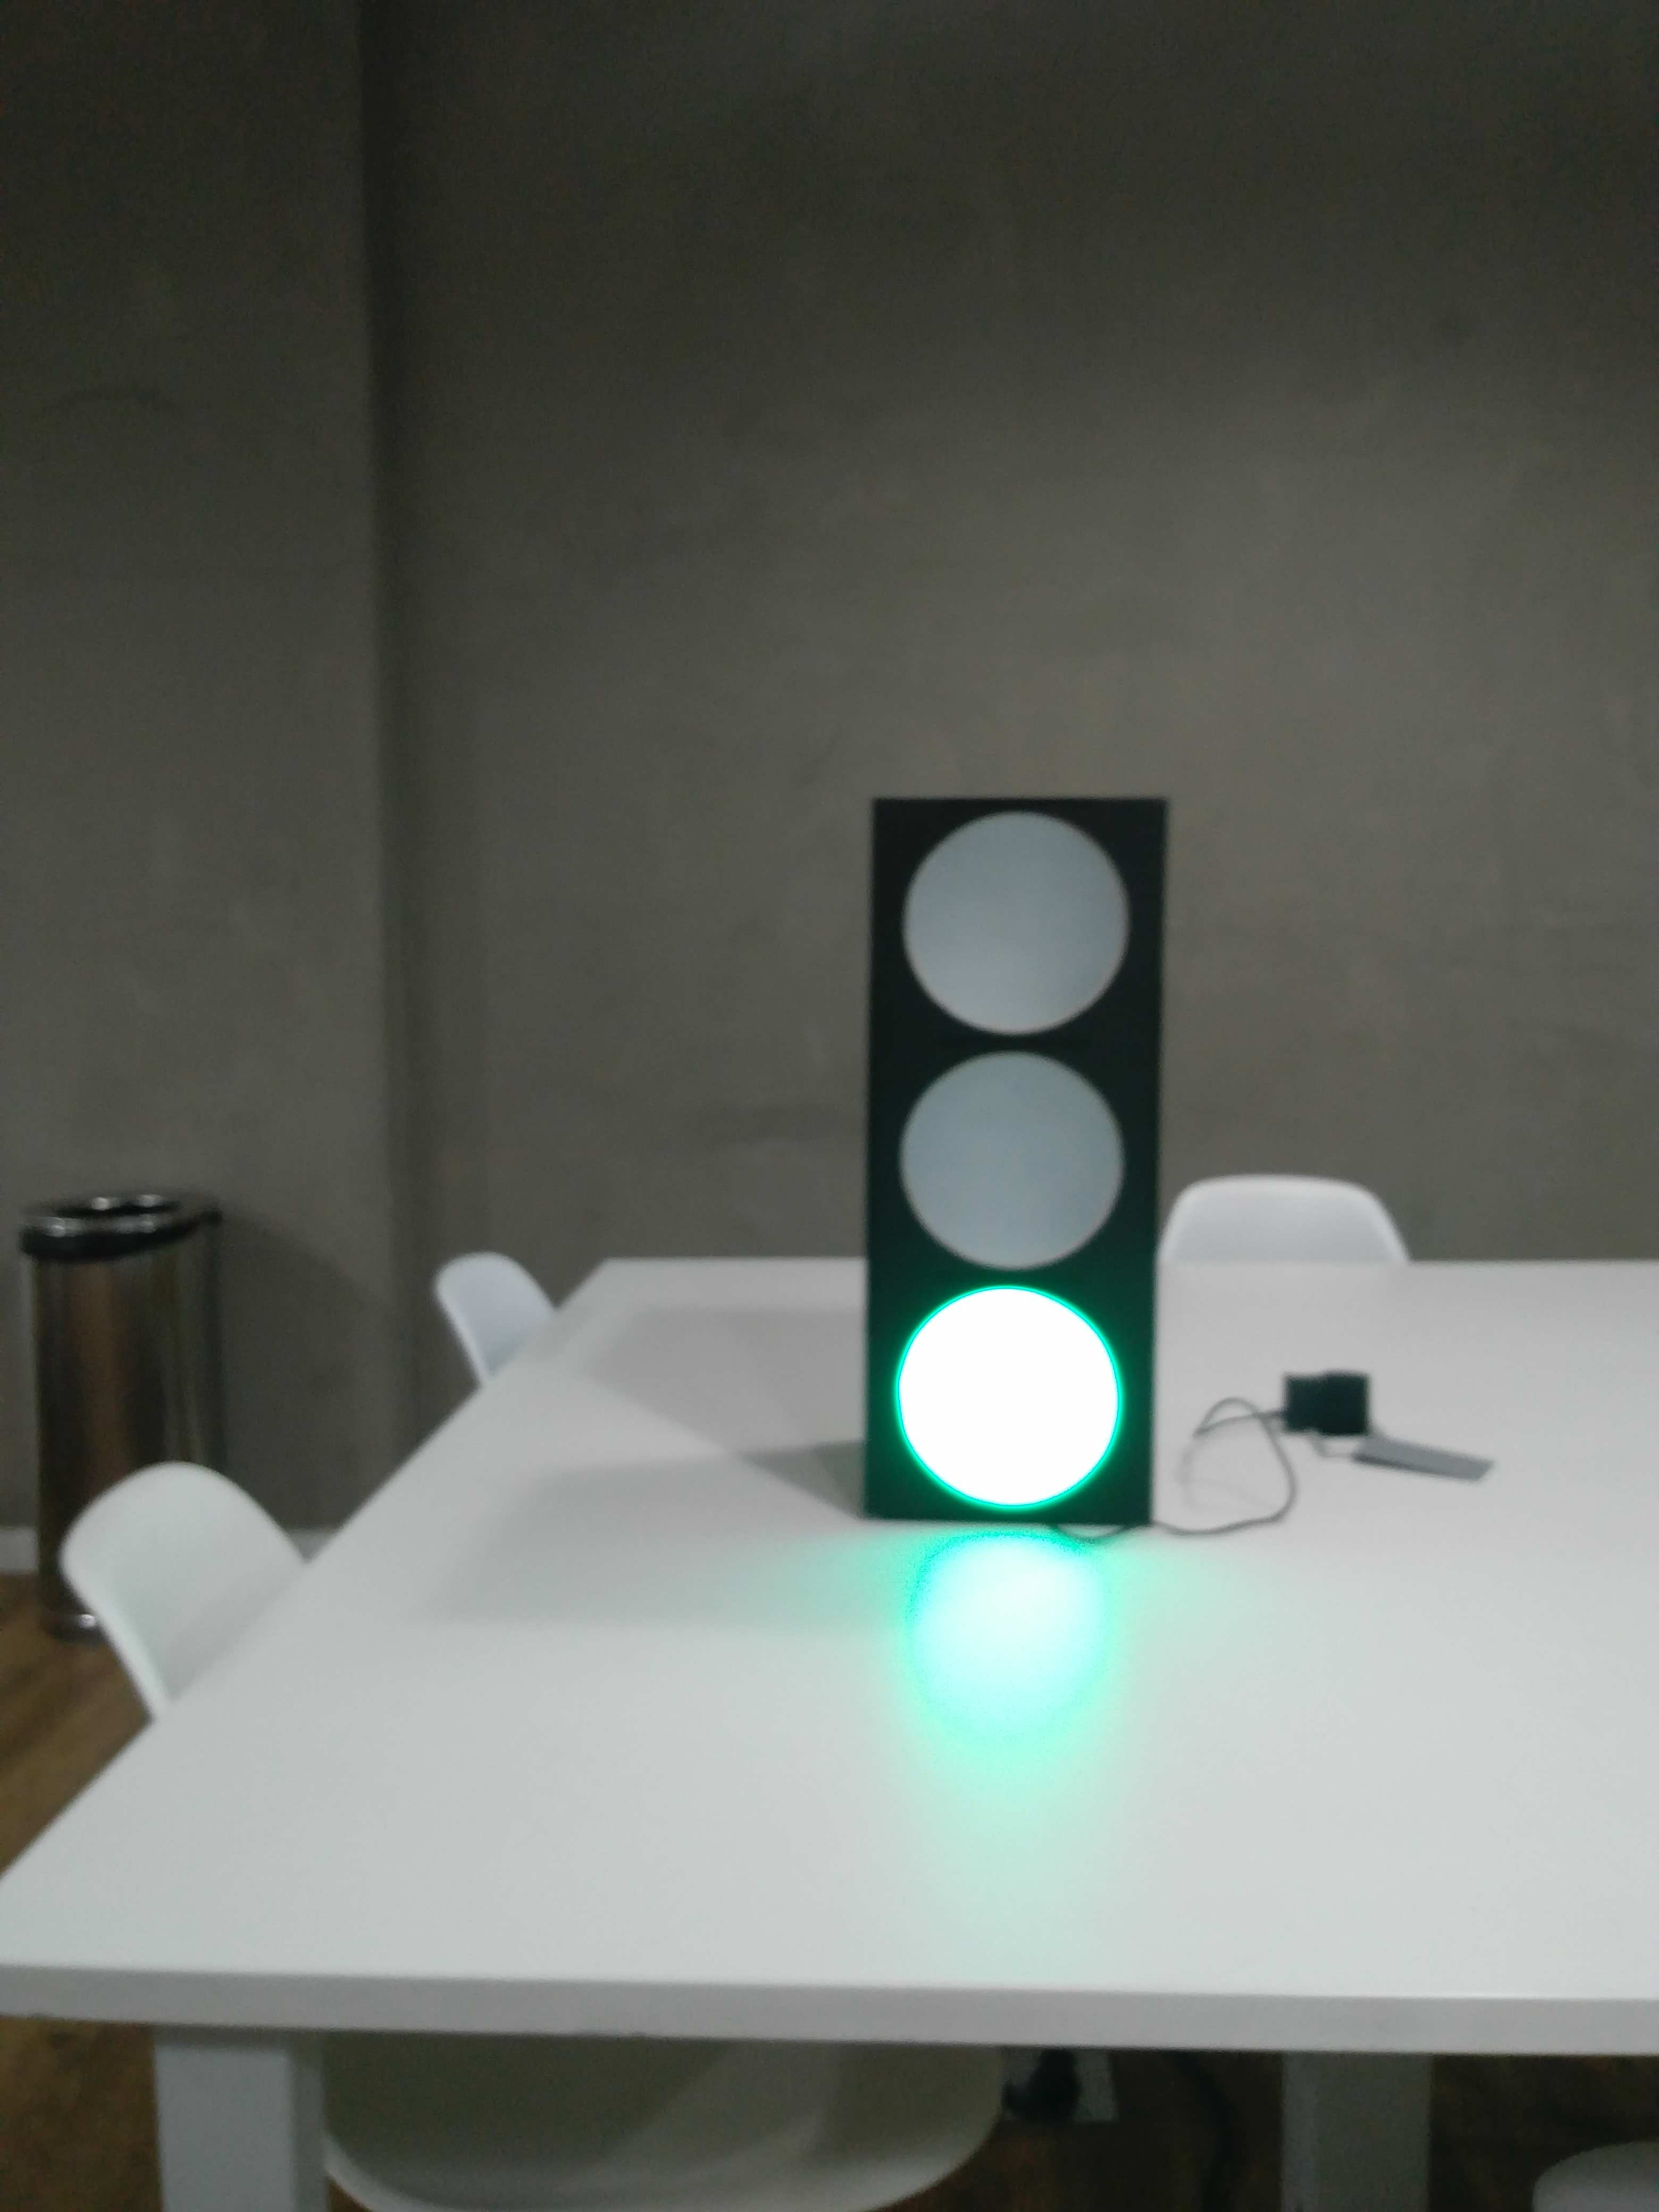go: (833, 782, 1246, 1545)
